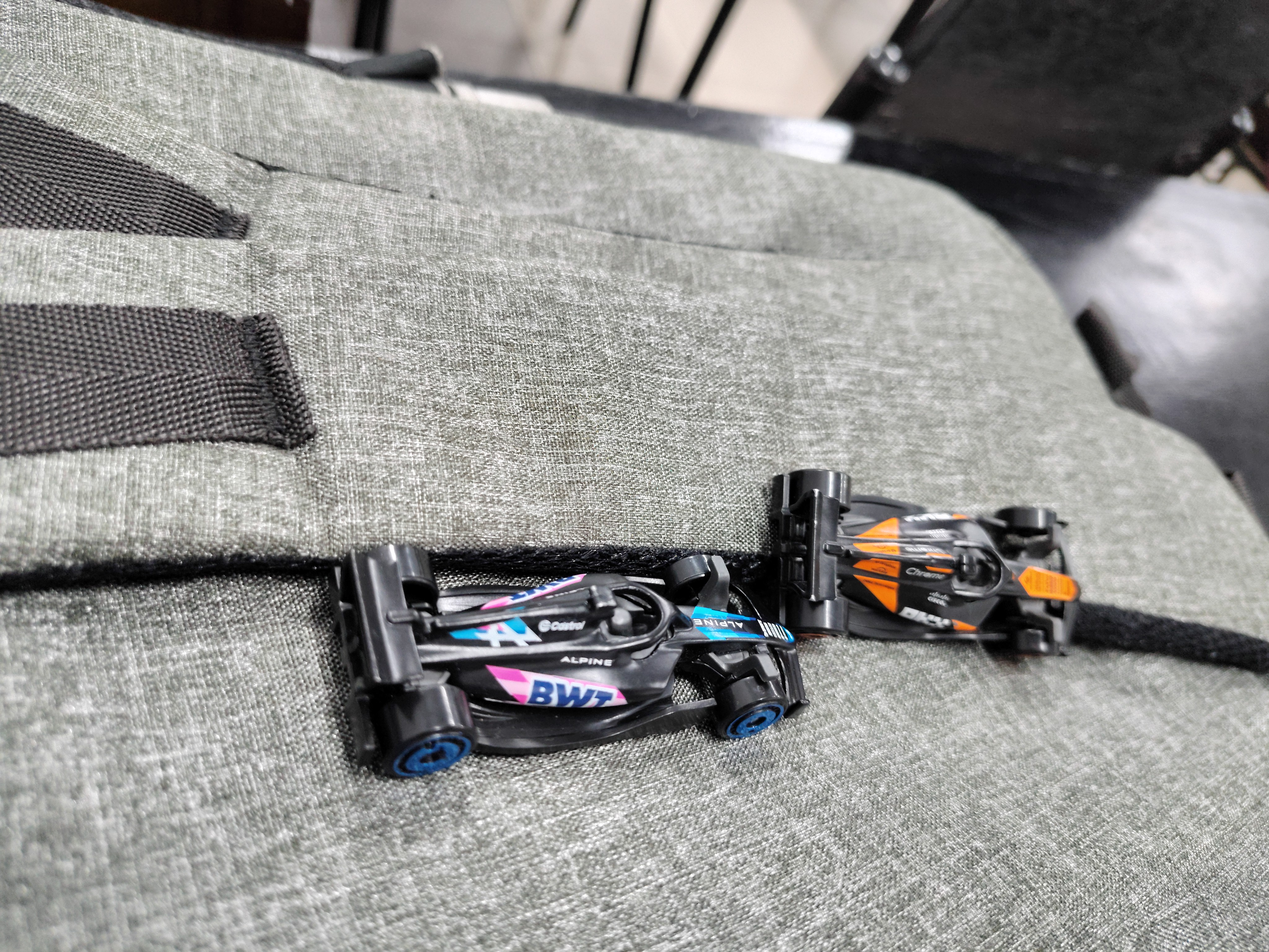Alpine A524: (296, 496, 804, 787)
McLaren MCL40: (742, 395, 1176, 685)
